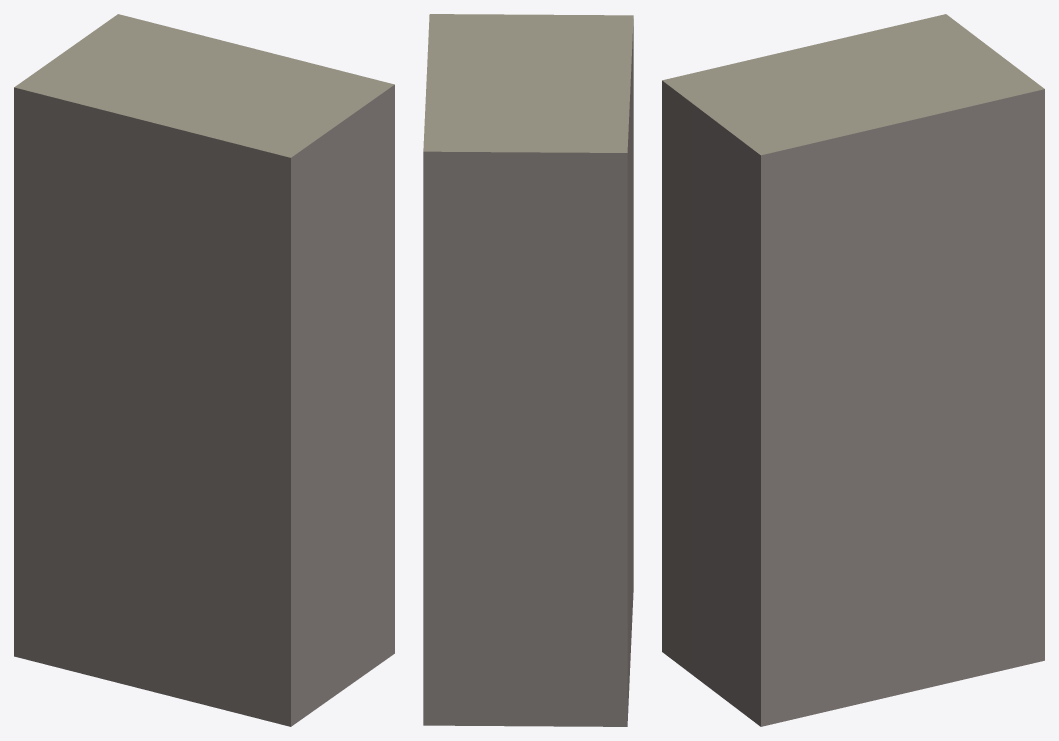
Rendered from nyc-1016010-0.glb.
3 views of the same model, side by side, from view 1: azimuth 30°, elevation 25°; view 2: azimuth 150°, elevation 25°; view 3: azimuth 270°, elevation 25° (orthographic).
Visible parts, largest first — view 1: nyc-1016010-0; view 2: nyc-1016010-0; view 3: nyc-1016010-0.
Boxes of the visible parts, bbox=[...] form: nyc-1016010-0: bbox=[14, 14, 394, 726]; nyc-1016010-0: bbox=[423, 14, 633, 726]; nyc-1016010-0: bbox=[662, 14, 1044, 726].
Size of the model in its own units: 26.81 by 50.52 by 30.68.
